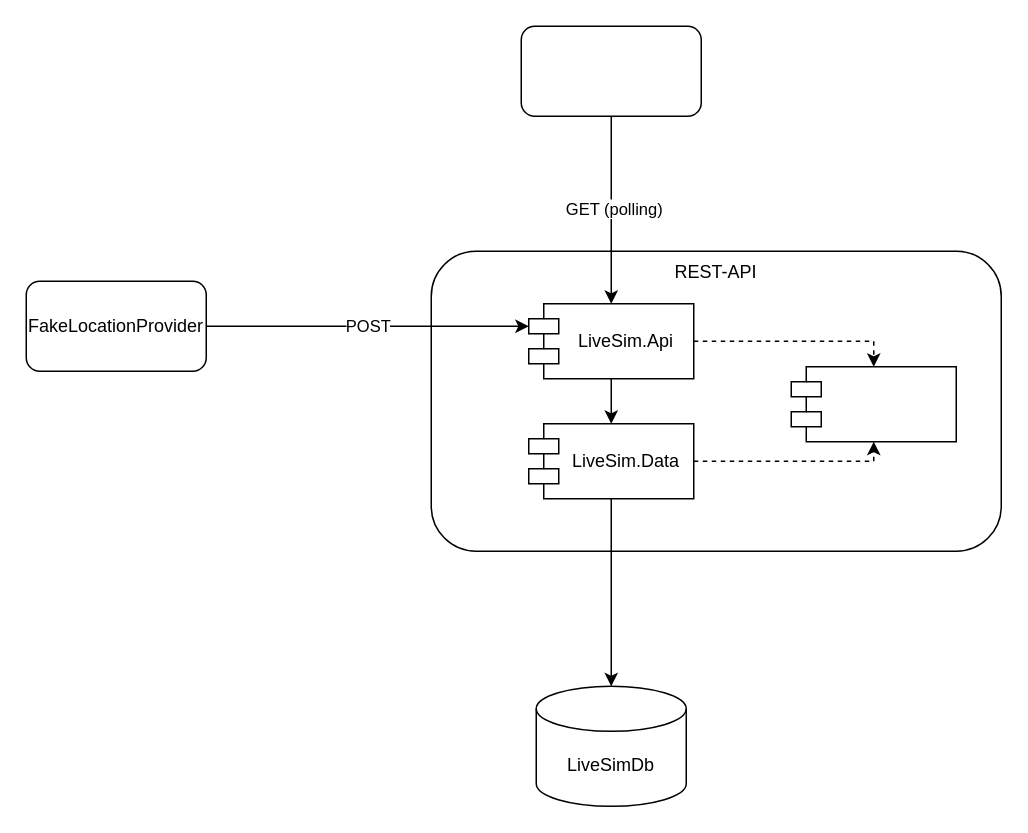
This 1028x833 diagram has some shape labels left out. The box of each missing label's shape, as (x1, y1, x2, y2) in pixels:
LiveSim.Core: (790, 365, 956, 442)
LiveSim.Wpf: (520, 25, 701, 116)
